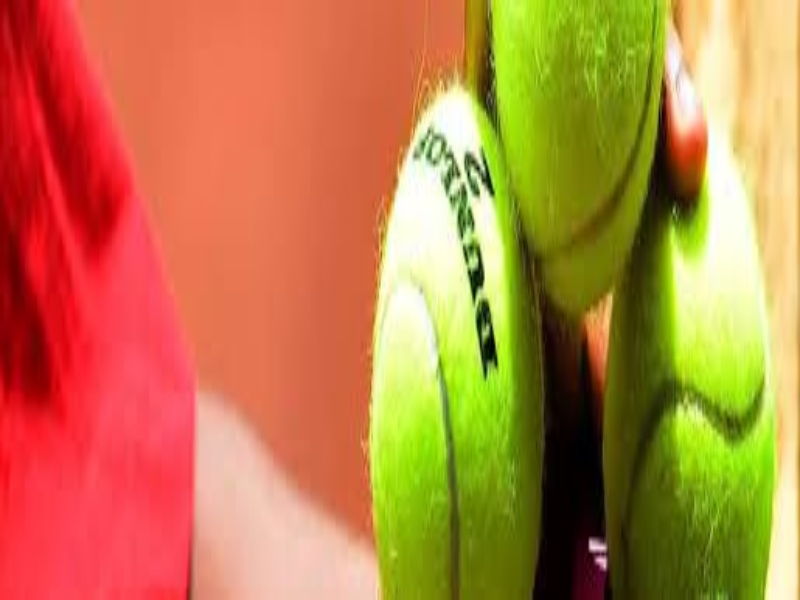tennis ball: (365, 74, 565, 600), (611, 131, 767, 600), (470, 4, 681, 325)
